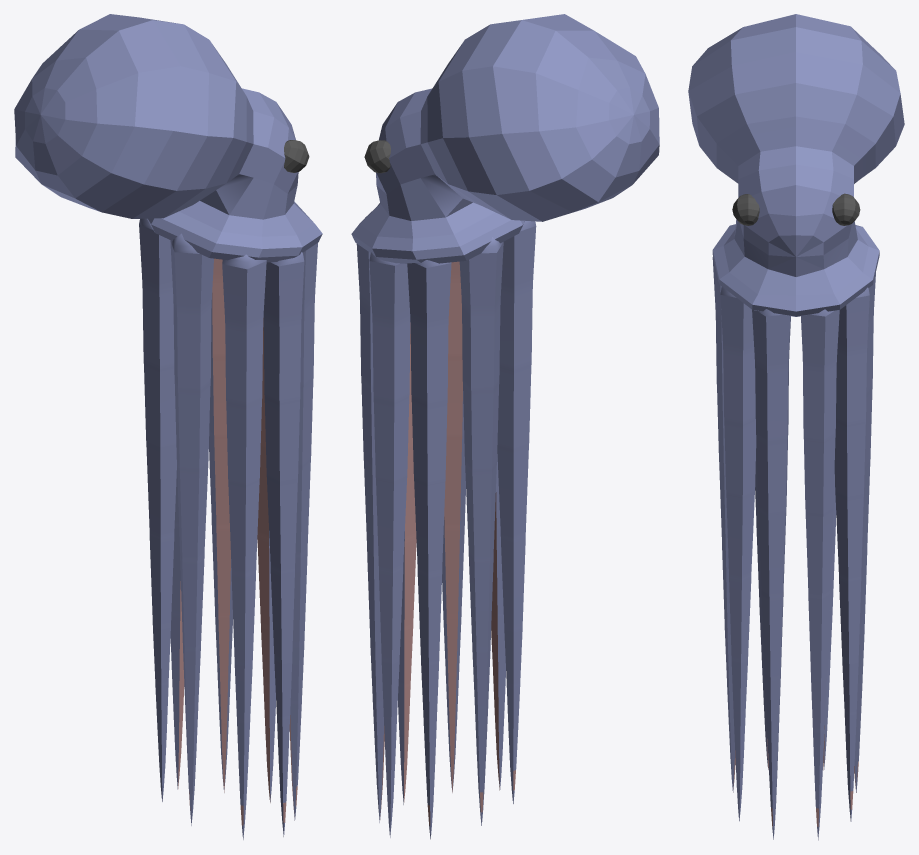
The model's file is Kraken.fbx.
The picture shows the model from 3 angles, left to right: view 1: azimuth 30°, elevation 25°; view 2: azimuth 150°, elevation 25°; view 3: azimuth 270°, elevation 25°; orthographic projection. The views are drawn at different scales.
Visible parts, largest first — view 1: head, tentacle5, tentacle6, tentacle2, tentacle7, tentacle3, tentacle1, tentacle, tentacle4, eyer; view 2: head, tentacle7, tentacle4, tentacle3, tentacle6, tentacle2, tentacle, tentacle1, tentacle5, eyel; view 3: head, tentacle1, tentacle, tentacle2, tentacle3, tentacle5, tentacle4, tentacle7, tentacle6, eyel, eyer.
Boxes of the visible parts, left/top/right/bottom form: head: left=14, top=14, right=322, bottom=262; tentacle5: left=222, top=254, right=266, bottom=839; tentacle6: left=170, top=233, right=213, bottom=825; tentacle2: left=263, top=252, right=304, bottom=836; tentacle7: left=139, top=218, right=176, bottom=801; tentacle3: left=209, top=258, right=232, bottom=792; tentacle1: left=289, top=243, right=317, bottom=820; tentacle: left=257, top=318, right=276, bottom=802; tentacle4: left=170, top=468, right=184, bottom=789; eyer: left=284, top=140, right=309, bottom=172; head: left=351, top=14, right=659, bottom=263; tentacle7: left=459, top=237, right=503, bottom=825; tentacle4: left=407, top=260, right=451, bottom=839; tentacle3: left=369, top=252, right=410, bottom=837; tentacle6: left=497, top=221, right=536, bottom=803; tentacle2: left=442, top=261, right=465, bottom=792; tentacle: left=356, top=244, right=384, bottom=822; tentacle1: left=398, top=322, right=416, bottom=804; tentacle5: left=491, top=454, right=505, bottom=790; eyel: left=364, top=140, right=390, bottom=173; head: left=688, top=14, right=904, bottom=316; tentacle1: left=752, top=309, right=790, bottom=839; tentacle: left=801, top=309, right=839, bottom=840; tentacle2: left=720, top=286, right=756, bottom=821; tentacle3: left=834, top=287, right=869, bottom=821; tentacle5: left=712, top=257, right=735, bottom=792; tentacle4: left=854, top=273, right=875, bottom=792; tentacle7: left=823, top=472, right=836, bottom=770; tentacle6: left=755, top=444, right=768, bottom=769; eyel: left=832, top=193, right=860, bottom=225; eyer: left=732, top=194, right=759, bottom=225.
Bounding box in the file's own units: 10.91 × 31.25 × 8.11.
